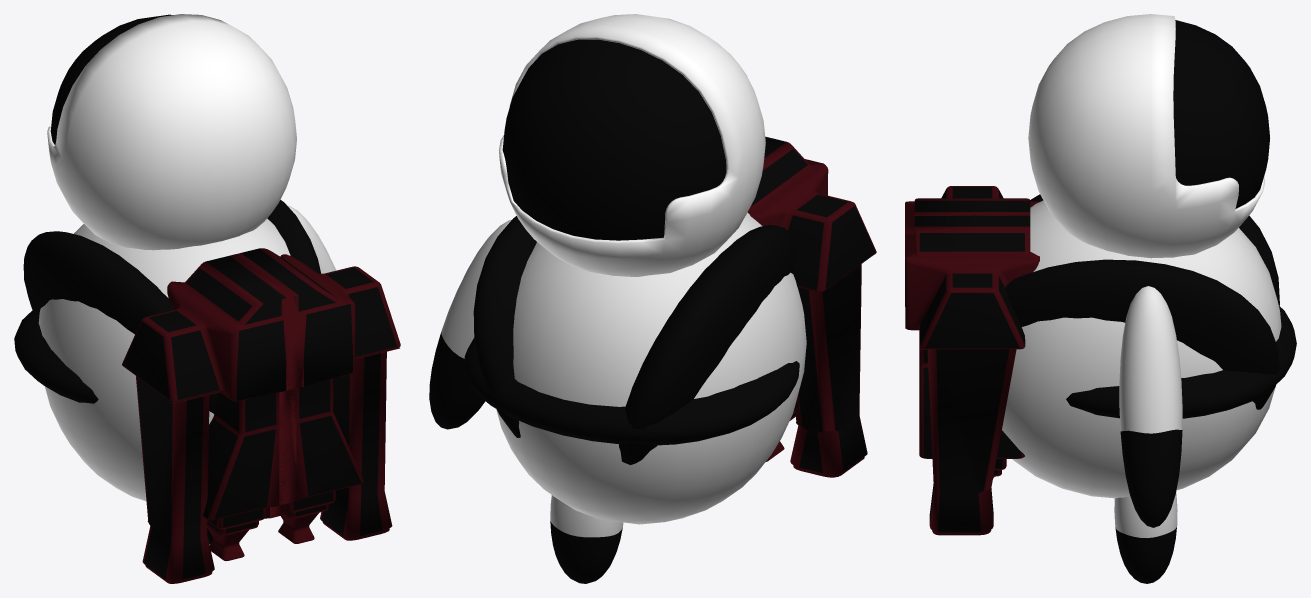
File: Digi_astronaut_player4.glb
3 views of the same model, side by side, from view 1: azimuth 30°, elevation 25°; view 2: azimuth 150°, elevation 25°; view 3: azimuth 270°, elevation 25° (orthographic). The views are drawn at different scales.
Visible parts, largest first — view 1: Cube.007, Cube, Cube.002, Cube.008, Cube.010, Cube.001, Cube.005; view 2: Cube.002, Cube.001, Cube.007, Cube.008, Cube, Cube.010, Cube.005, Cube.004; view 3: Cube, Cube.007, Cube.002, Cube.008, Cube.001, Cube.005, Cube.010, Cube.004.
Boxes of the visible parts, x1,y1,x2,y2 form: Cube.007: (122,248,400,583); Cube: (47,14,296,250); Cube.002: (38,218,290,501); Cube.008: (23,200,321,413); Cube.010: (14,310,98,403); Cube.001: (50,14,172,144); Cube.005: (287,205,336,273); Cube.002: (496,212,806,524); Cube.001: (502,39,726,240); Cube.007: (747,136,876,477); Cube.008: (473,216,794,464); Cube: (499,14,765,276); Cube.010: (463,338,799,445); Cube.005: (429,219,511,429); Cube.004: (550,495,623,583); Cube: (1028,14,1264,258); Cube.007: (905,186,1039,535); Cube.002: (1002,200,1281,498); Cube.008: (1005,194,1279,409); Cube.001: (1173,20,1269,208); Cube.005: (1119,286,1182,527); Cube.010: (1066,306,1296,418); Cube.004: (1114,492,1177,583).
Bounding box in the file's own units: 2.55 × 4.02 × 2.68.
